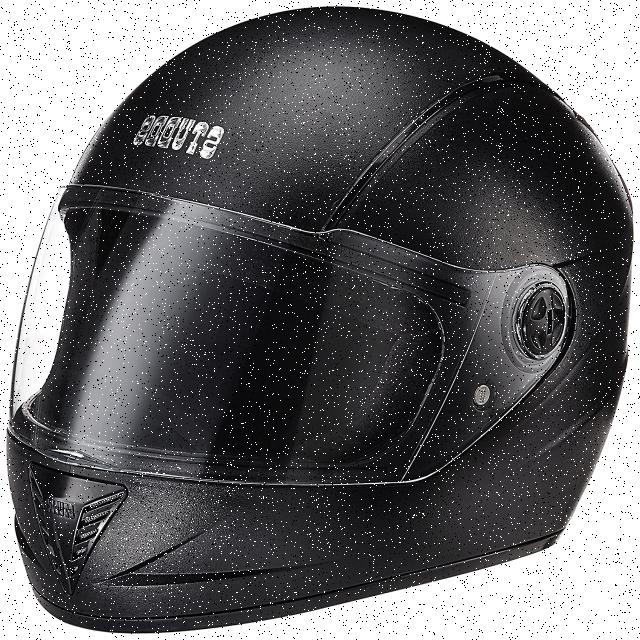Helmet: (8, 8, 632, 631)
